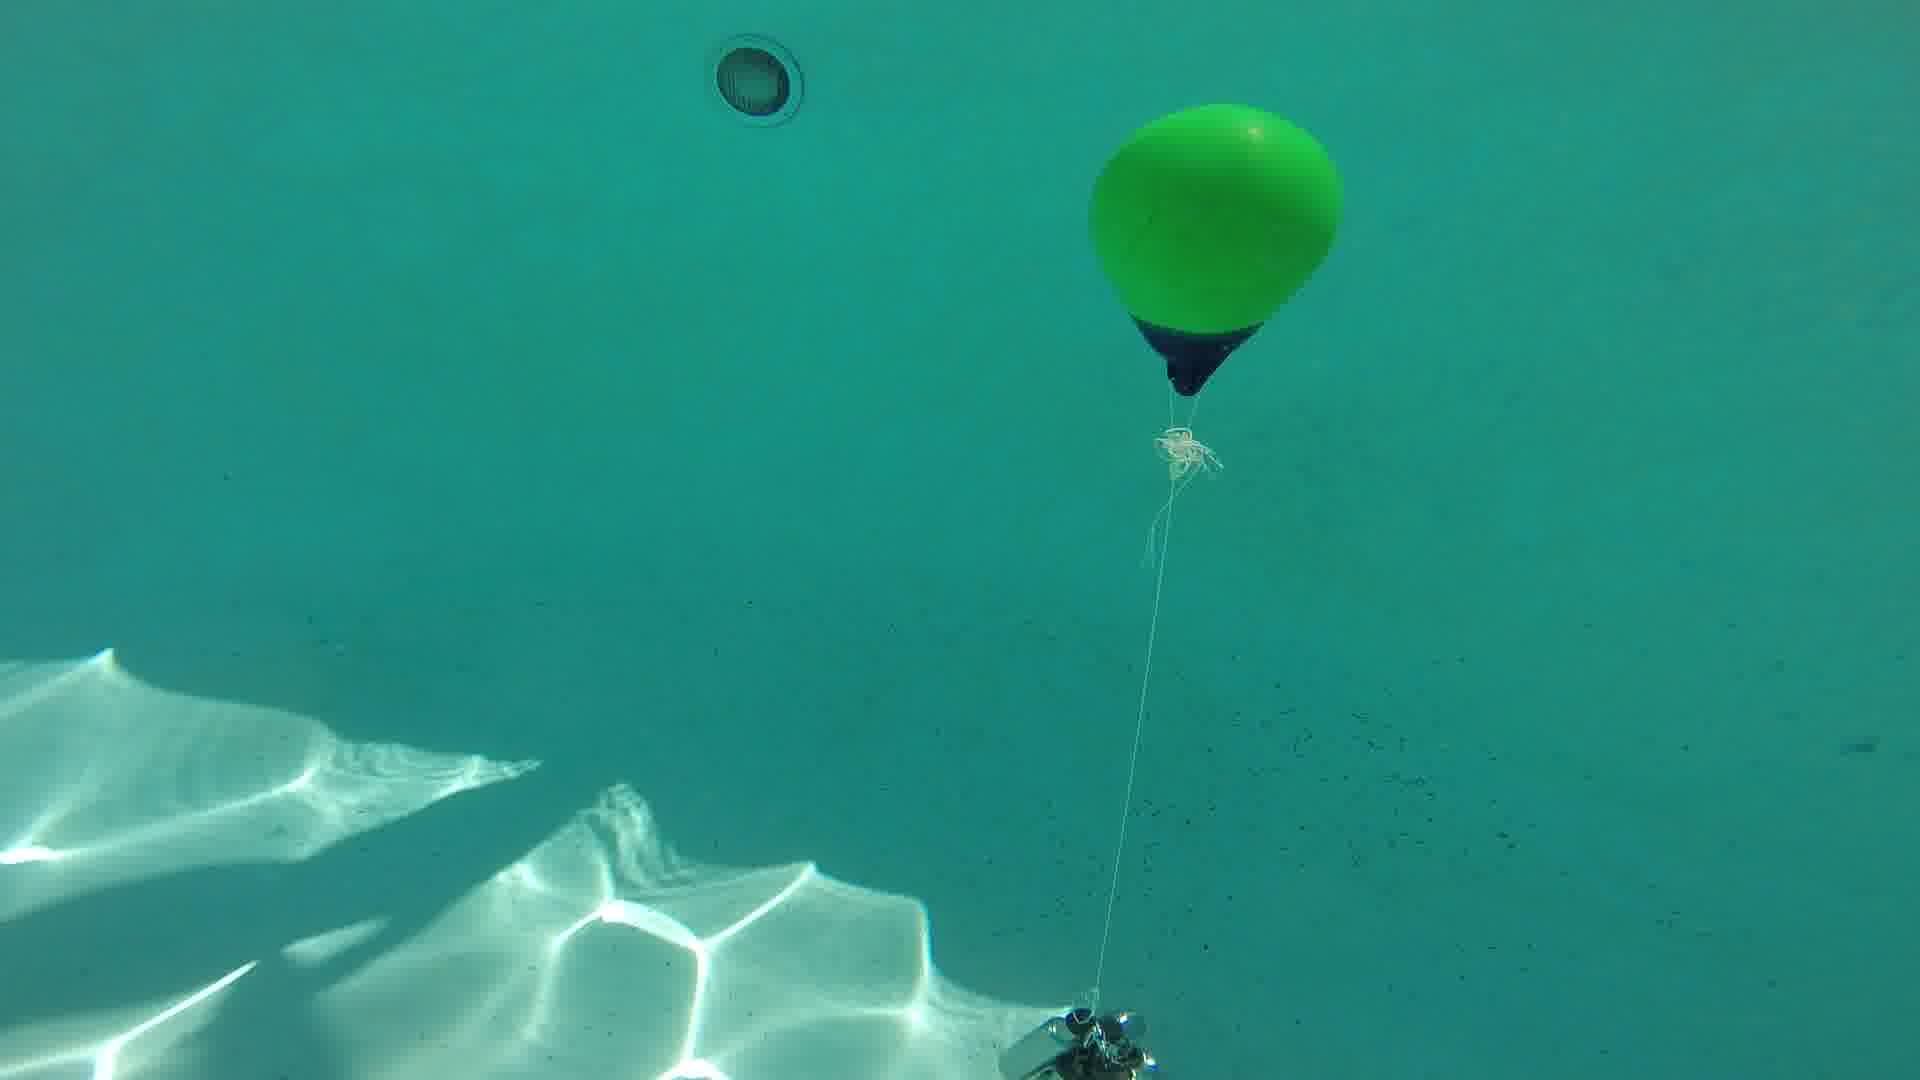yellow_buoy: (1085, 100, 1346, 400)
